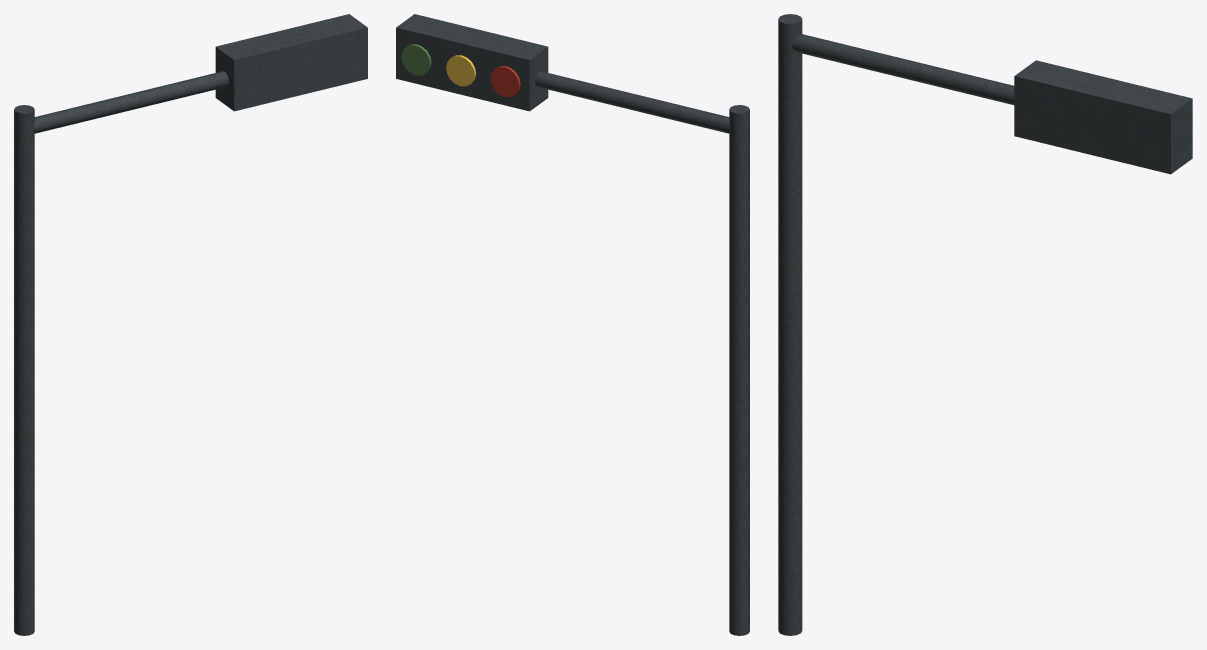
File: traffic_signal.glb
The picture shows the model from 3 angles, left to right: view 1: azimuth 30°, elevation 25°; view 2: azimuth 150°, elevation 25°; view 3: azimuth 330°, elevation 25°; orthographic projection. The views are drawn at different scales.
Parts seen in each view (by area): view 1: traffic_signal; view 2: traffic_signal; view 3: traffic_signal.
Boxes of the visible parts, left/top/right/bottom form: traffic_signal: left=14, top=14, right=367, bottom=635; traffic_signal: left=396, top=14, right=749, bottom=635; traffic_signal: left=778, top=14, right=1192, bottom=635.
Size of the model in its own units: 3.85 by 5.68 by 0.41.
